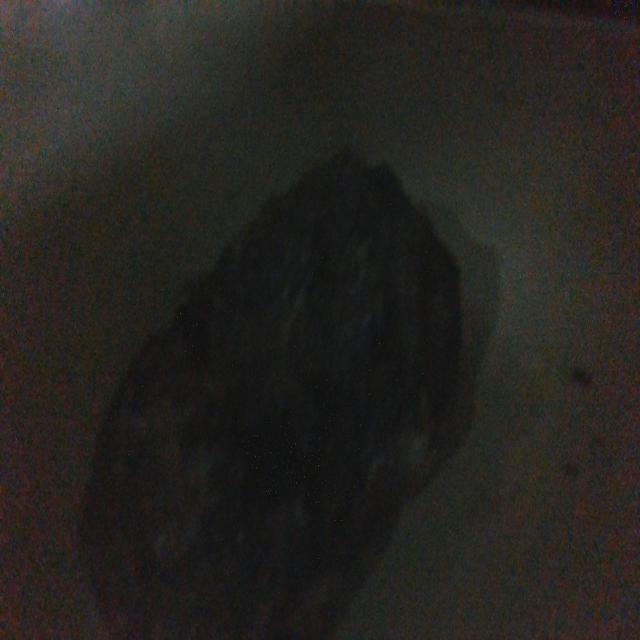stone: (73, 142, 469, 640)
